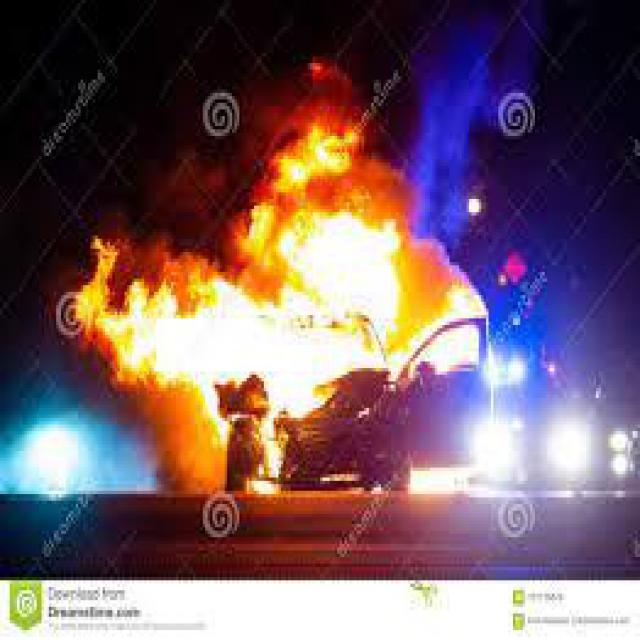fire: (79, 127, 492, 462)
